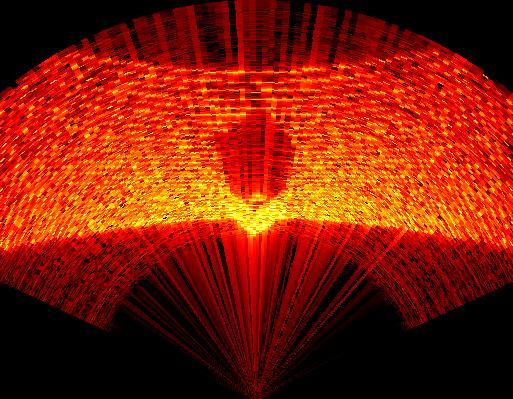box_crate: (215, 107, 302, 236)
